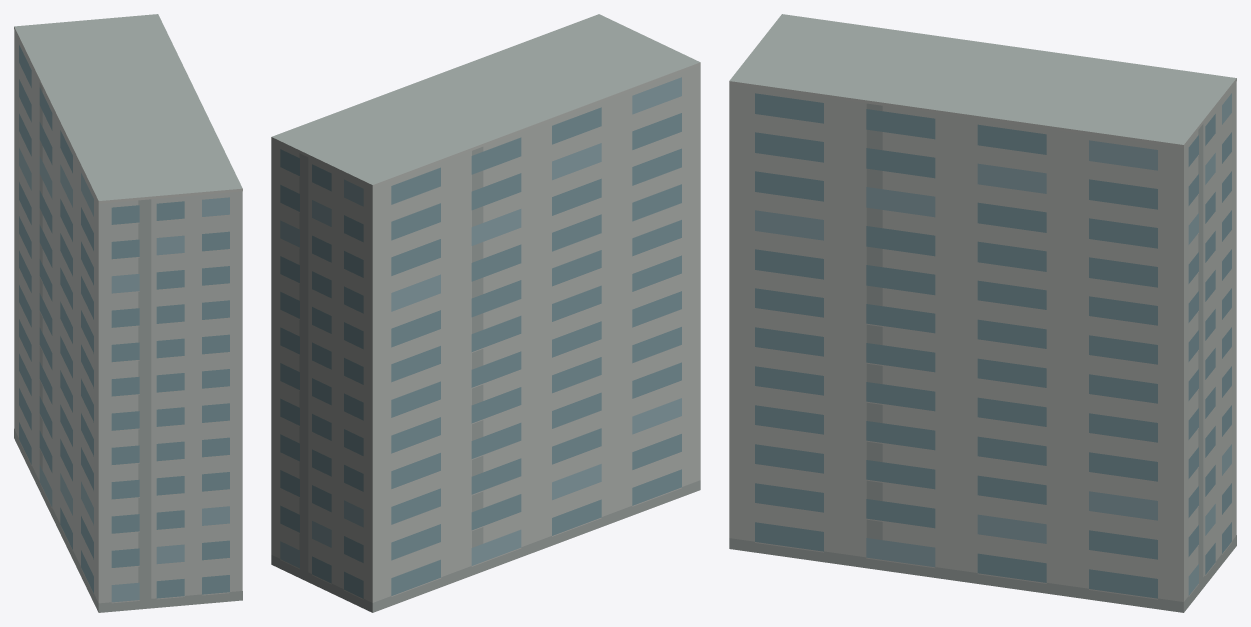
The model's file is residential-d00bd6e2-ffe1-40d5-a3f8-d39c999f2663.glb.
The picture shows the model from 3 angles, left to right: view 1: azimuth 30°, elevation 25°; view 2: azimuth 150°, elevation 25°; view 3: azimuth 270°, elevation 25°; orthographic projection. The views are drawn at different scales.
Visible parts, largest first — view 1: residential-d00bd6e2-ffe1-40d5-a3f8-d39c999f2663.tmp; view 2: residential-d00bd6e2-ffe1-40d5-a3f8-d39c999f2663.tmp; view 3: residential-d00bd6e2-ffe1-40d5-a3f8-d39c999f2663.tmp.
Part boxes in pixels (bbox=[...]): residential-d00bd6e2-ffe1-40d5-a3f8-d39c999f2663.tmp: bbox=[14, 14, 242, 612]; residential-d00bd6e2-ffe1-40d5-a3f8-d39c999f2663.tmp: bbox=[271, 14, 700, 612]; residential-d00bd6e2-ffe1-40d5-a3f8-d39c999f2663.tmp: bbox=[729, 14, 1236, 612].
Size of the model in its own units: 21.99 by 36.6 by 35.99.
